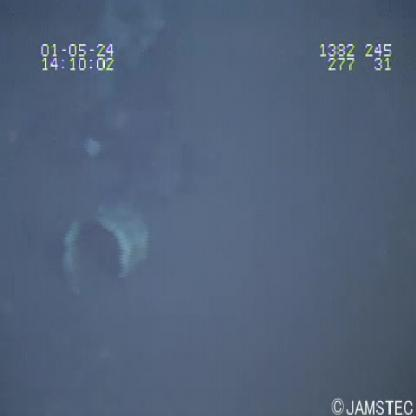Rác: (55, 195, 158, 304)
